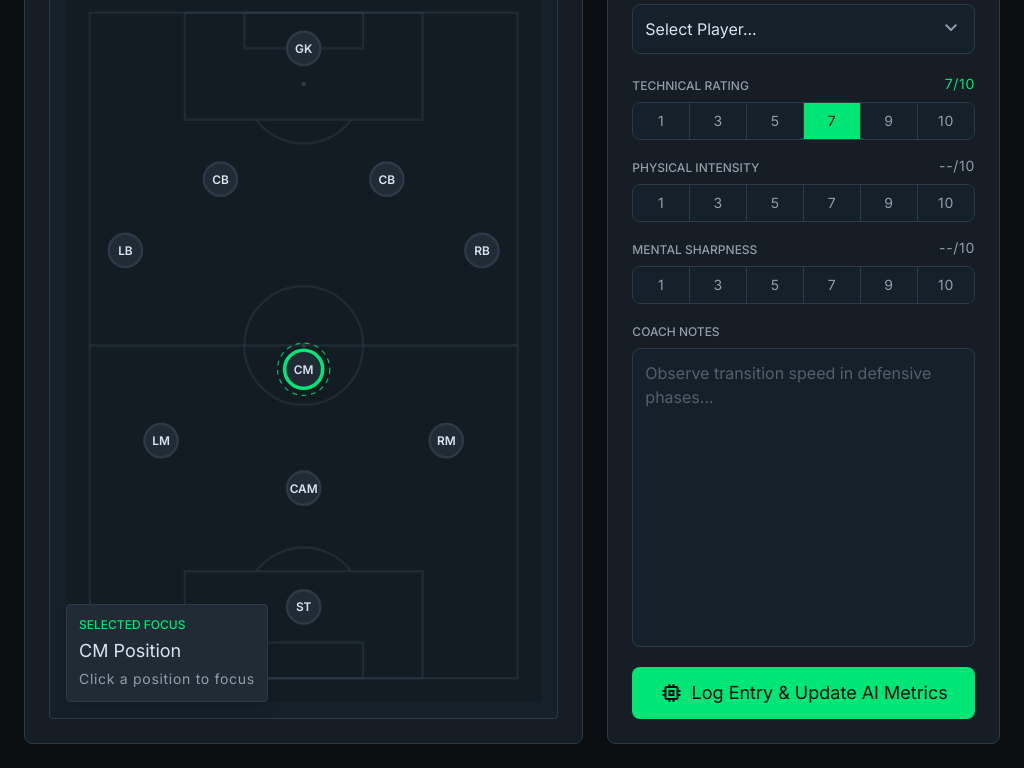
Test: CoachDashboard performans formu › oyuncu secilmeden gonderilirse uyarir
(page scrolled)
Click the button "Log Entry & Update AI Metrics" at {"x": 804, "y": 693}, box [632, 667, 975, 719]
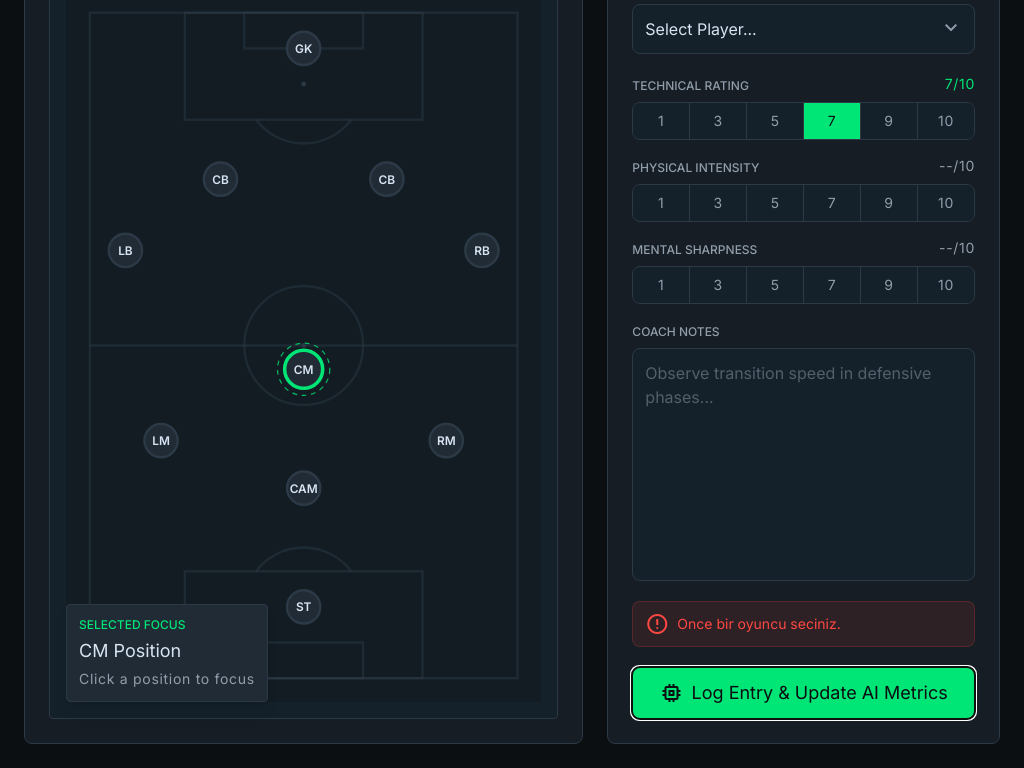
Check: the message reads "Once bir oyuncu seciniz.", box [677, 615, 841, 632]
